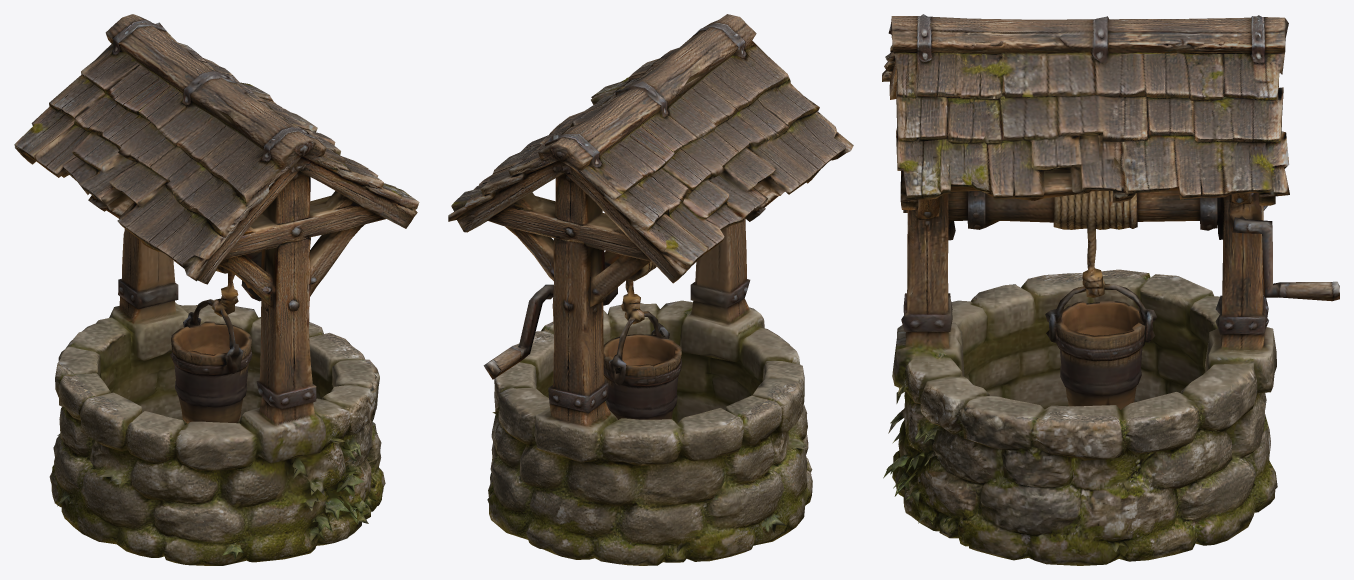
File: well.glb
3 renders of one model, left to right at view 1: azimuth 30°, elevation 25°; view 2: azimuth 150°, elevation 25°; view 3: azimuth 270°, elevation 25°, orthographic. The views are drawn at different scales.
Parts seen in each view (by area): view 1: tripo_node_f877db66-8b43-4072-b1c1-837a61b89fe2; view 2: tripo_node_f877db66-8b43-4072-b1c1-837a61b89fe2; view 3: tripo_node_f877db66-8b43-4072-b1c1-837a61b89fe2.
Boxes of the visible parts, x1=… form: tripo_node_f877db66-8b43-4072-b1c1-837a61b89fe2: x1=14, y1=14, x2=419, y2=565; tripo_node_f877db66-8b43-4072-b1c1-837a61b89fe2: x1=448, y1=14, x2=853, y2=565; tripo_node_f877db66-8b43-4072-b1c1-837a61b89fe2: x1=882, y1=14, x2=1339, y2=565.
Bounding box in the file's own units: 0.7115 × 0.9757 × 0.8603.
1 material, 1 textured.
